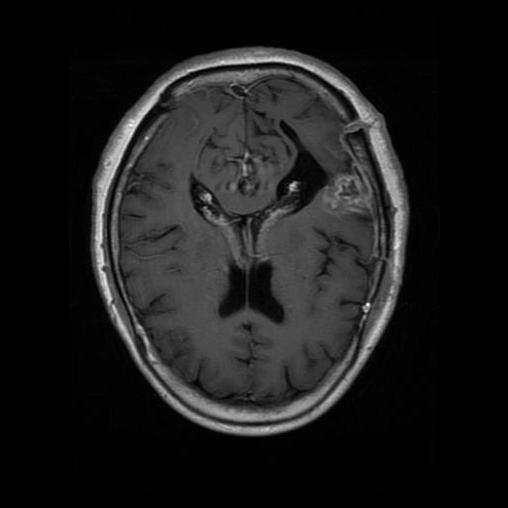Tumour-Glioma: (322, 157, 373, 234)
